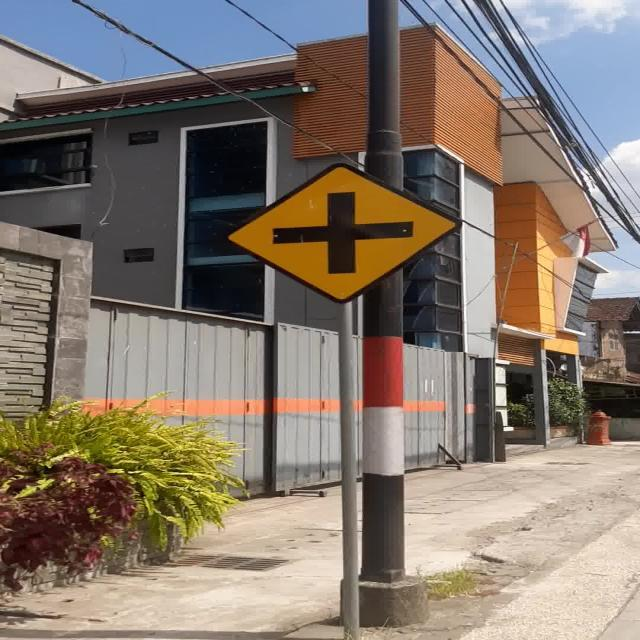Persimpangan 4: (220, 161, 462, 304)
